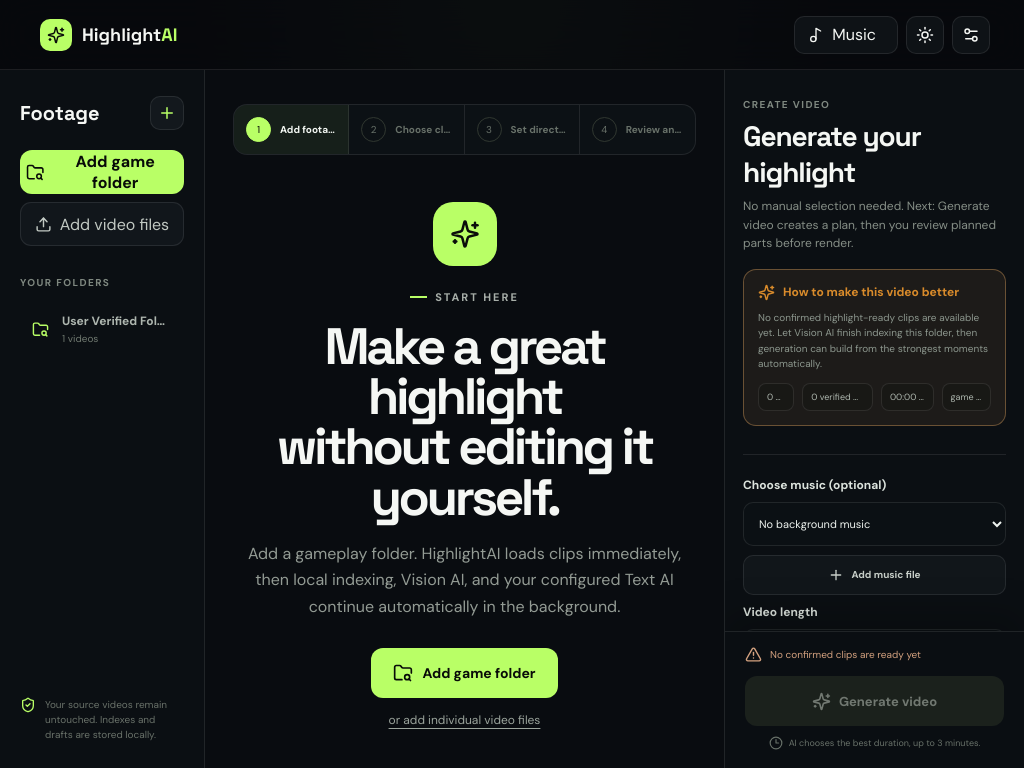
Test: path management › shows a user verified label for clips the user already reviewed
The width and height of the screenshot is (1024, 768).
What coordinates should you click on to do the following:
click the button "User Verified Folder 1 videos"
I would click on:
 (102, 329)
Its box is [20,301,184,357].
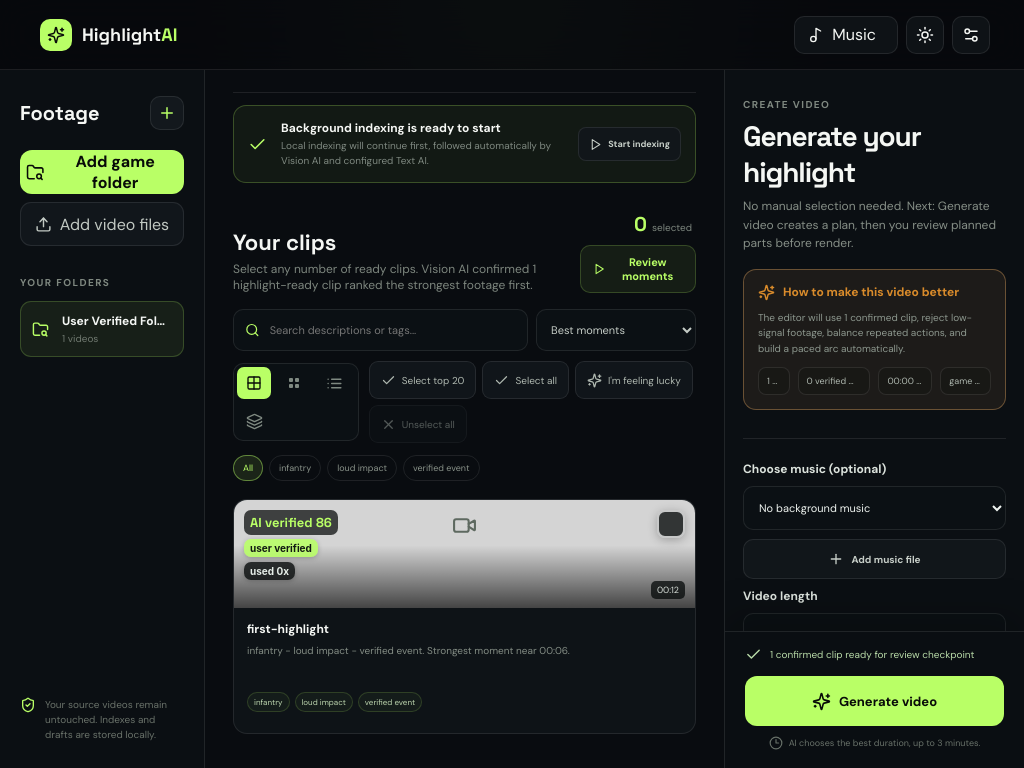
Expected: the text titled "You already reviewed this clip. HighlightAI will not ask you to review it again." is shown, [244,539,318,557]
